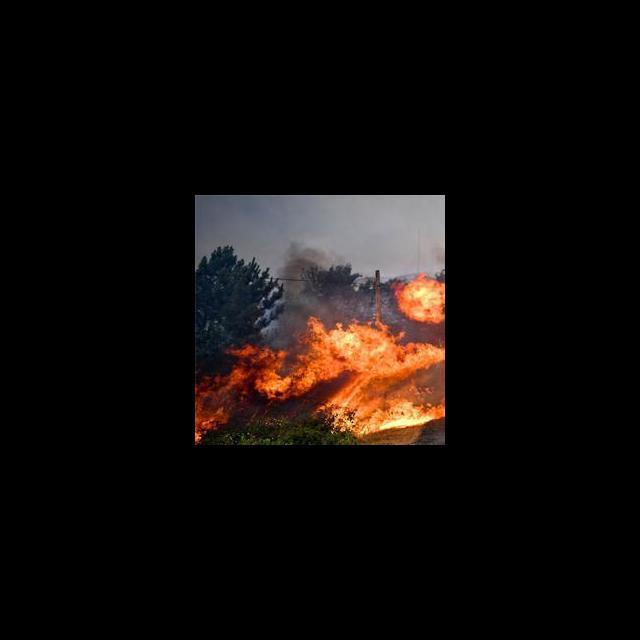Fire: (195, 319, 444, 443), (389, 270, 445, 322)
